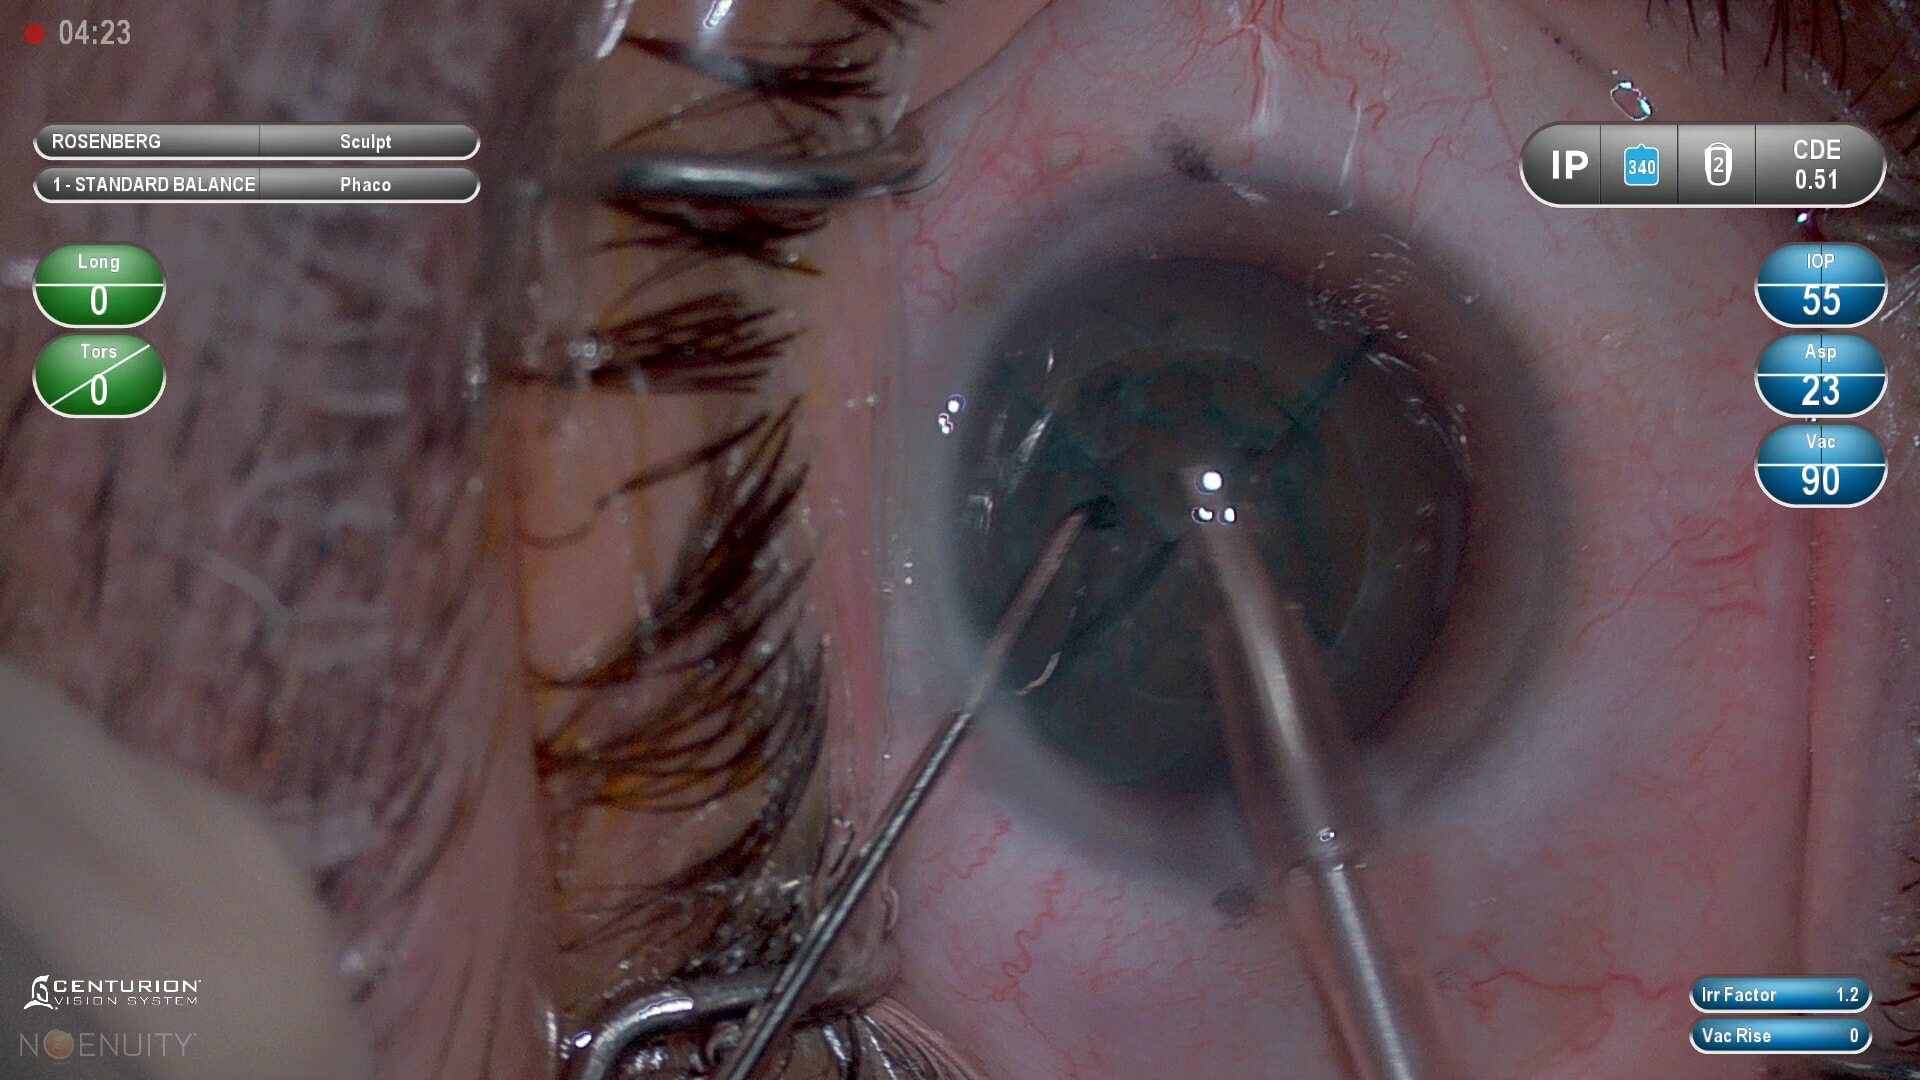iris: (888, 177, 1572, 875)
pupil: (944, 255, 1469, 780)
